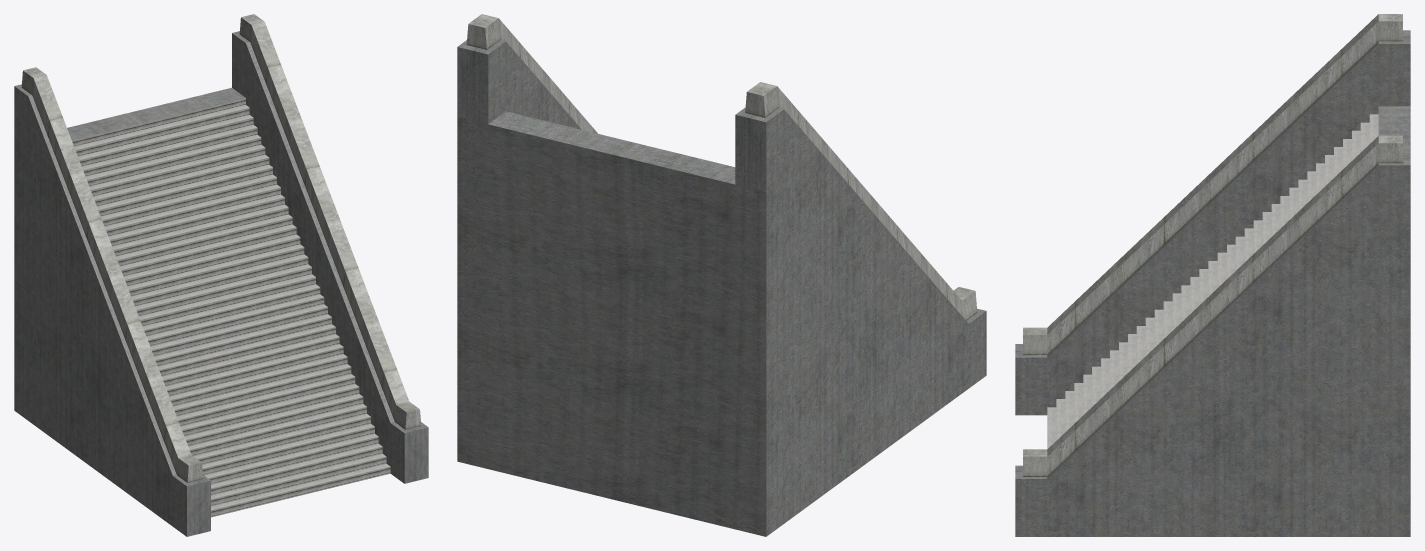
File: thm_corl_imprv_stair_medium_s01_l0.fbx
3 renders of one model, left to right at view 1: azimuth 30°, elevation 25°; view 2: azimuth 150°, elevation 25°; view 3: azimuth 270°, elevation 25°, orthographic. The views are drawn at different scales.
Visible parts, largest first — view 1: mesh_node; view 2: mesh_node; view 3: mesh_node.
Boxes of the visible parts, x1,y1,x2,y2 form: mesh_node: [14, 14, 428, 536]; mesh_node: [457, 14, 986, 536]; mesh_node: [1015, 14, 1410, 536].
Bounding box in the file's own units: 7.5 × 10.12 × 9.27.
